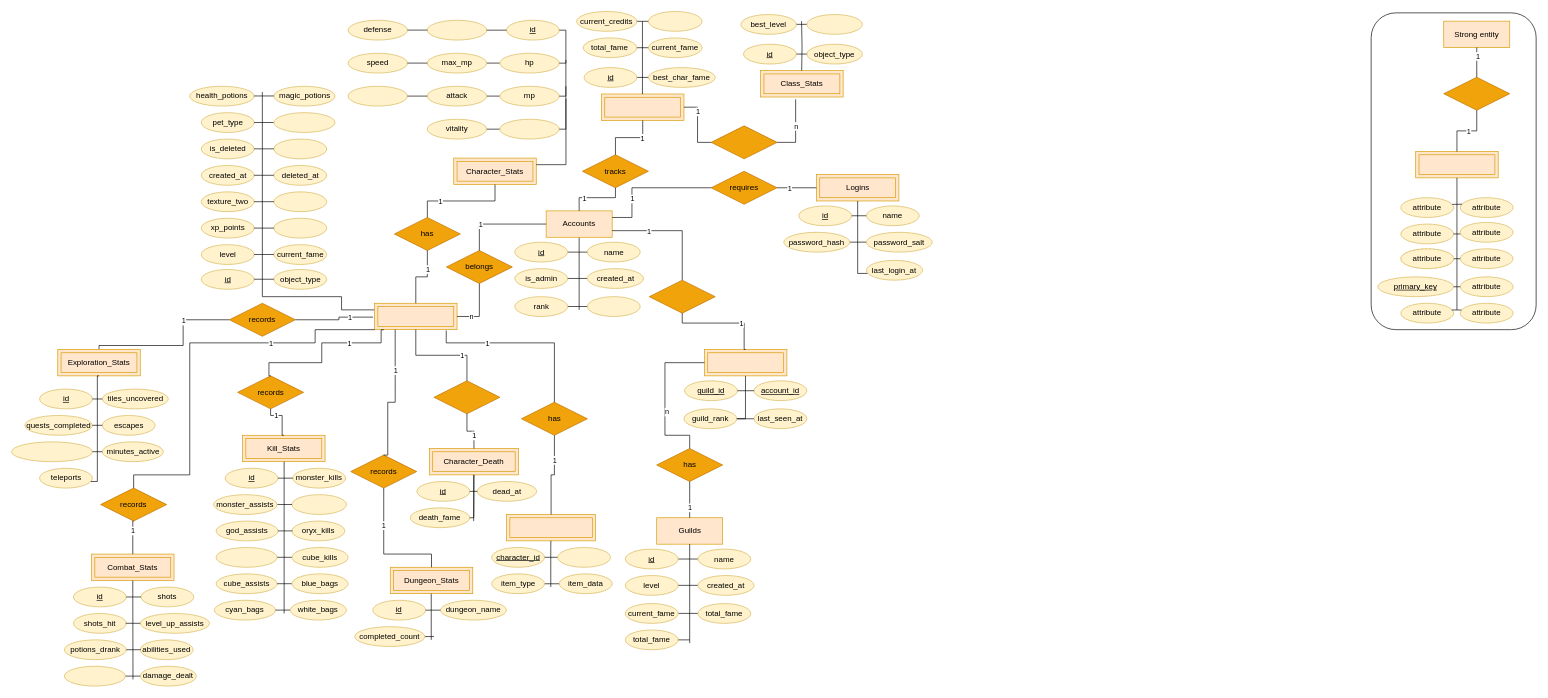
This 1548x698 diagram has some shape labels left out. Here are the shapes that lost their labels. From the top down, the centre of each, then its label:
At point (457, 30): "max_hp".
At point (675, 21): "total_credits".
At point (834, 24): "best_fame".
At point (377, 96): "dexterity".
At point (642, 106): "Account_Stats".
At point (1476, 93): "relationship".
At point (304, 122): "has_backpack".
At point (529, 129): "wisdom".
At point (743, 142): "keeps".
At point (300, 148): "is_dead".
At point (1456, 164): "Weak entity".
At point (300, 201): "skin_type".
At point (300, 228): "texture_one".
At point (415, 316): "Characters".
At point (613, 306): "is_banned".
At point (682, 296): "participates".
At point (745, 362): "Guild_Members".
At point (466, 397): "is".
At point (51, 451): "near_death_escapes".
At point (318, 504): "god_kills".
At point (551, 527): "Character_Inventory".
At point (246, 557): "oryx_assists".
At point (583, 557): "slot_id".
At point (94, 676): "damage_taken".
